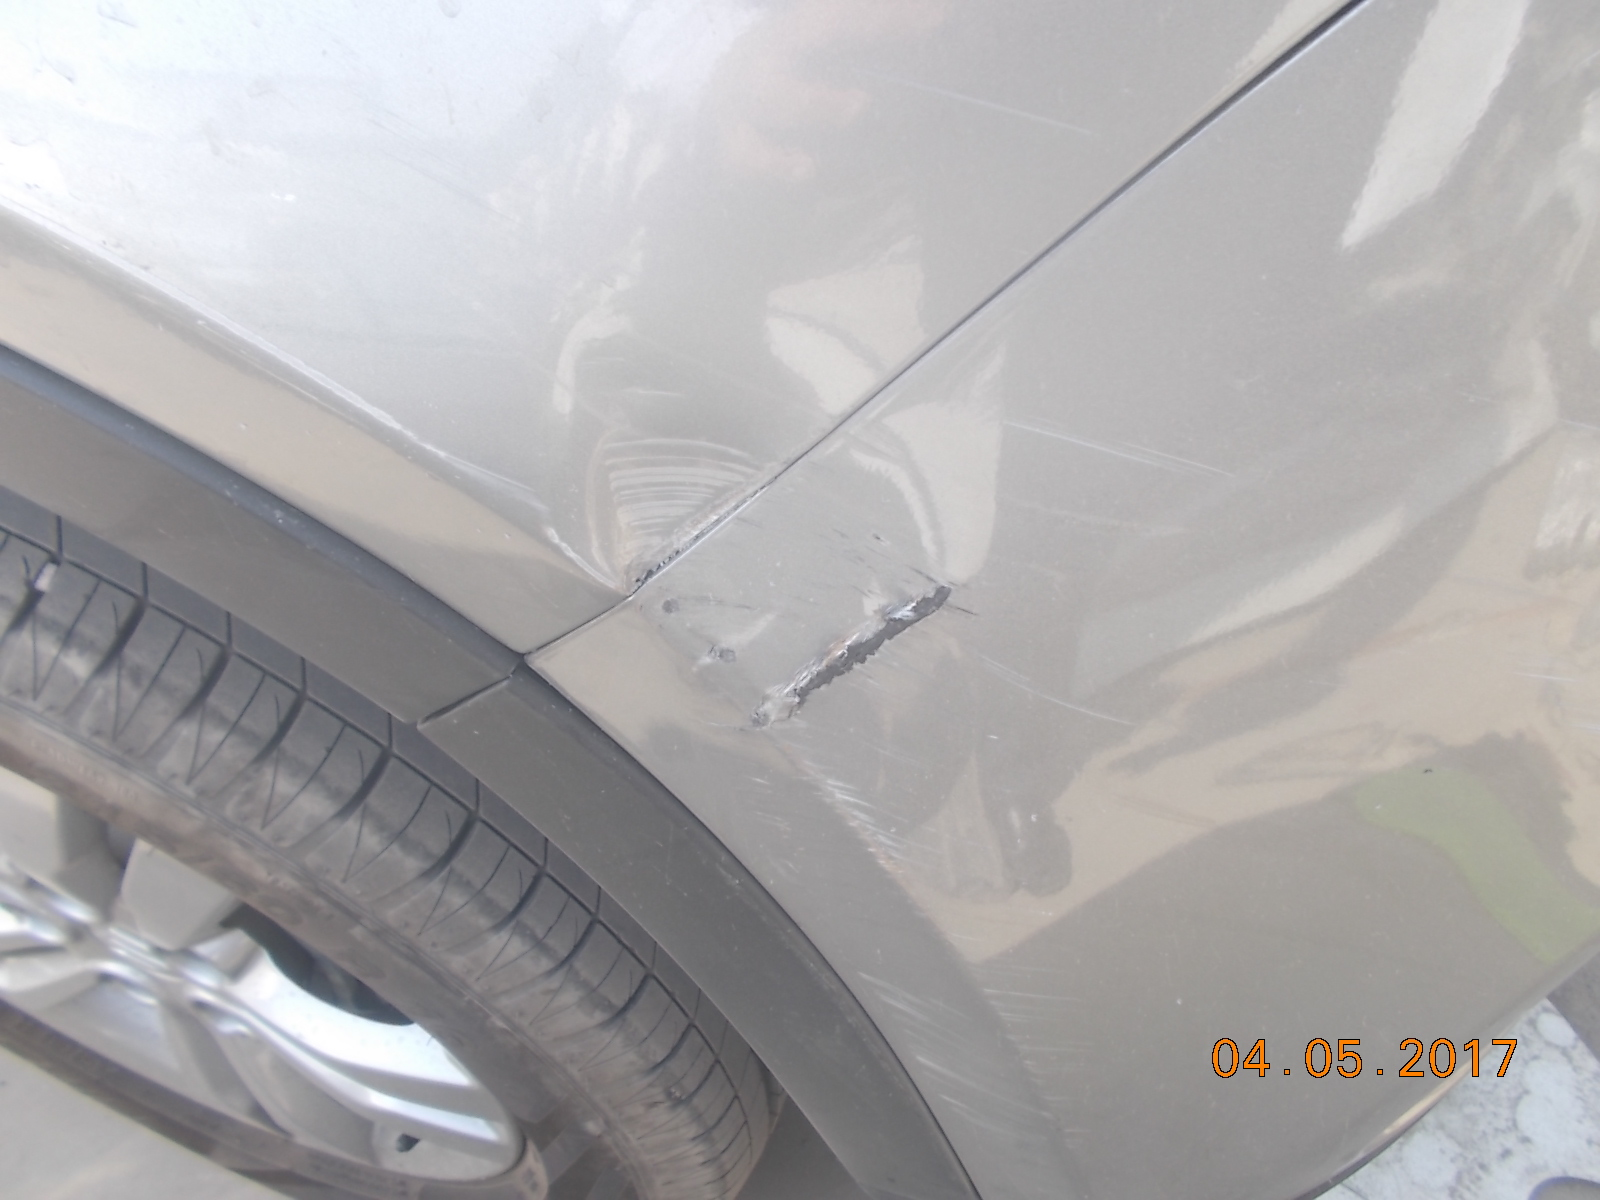Scratch_or_spot: (755, 576, 942, 732)
